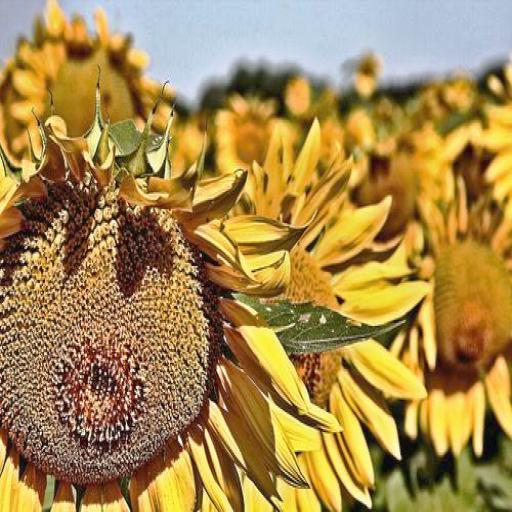sunflower: (1, 103, 335, 512), (226, 121, 429, 512), (392, 183, 512, 447)
